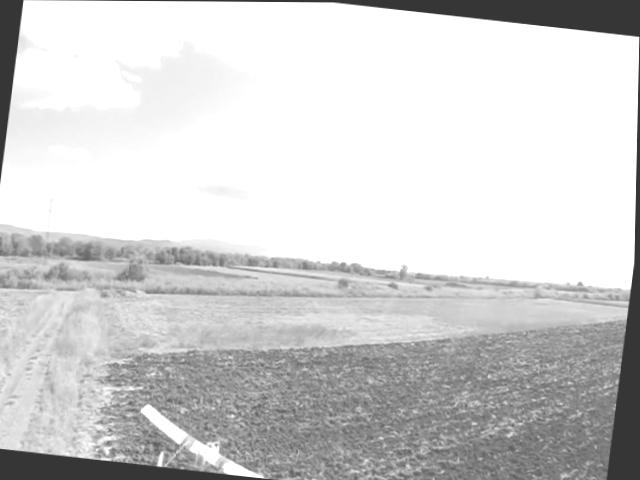hedef: (129, 397, 290, 480)
